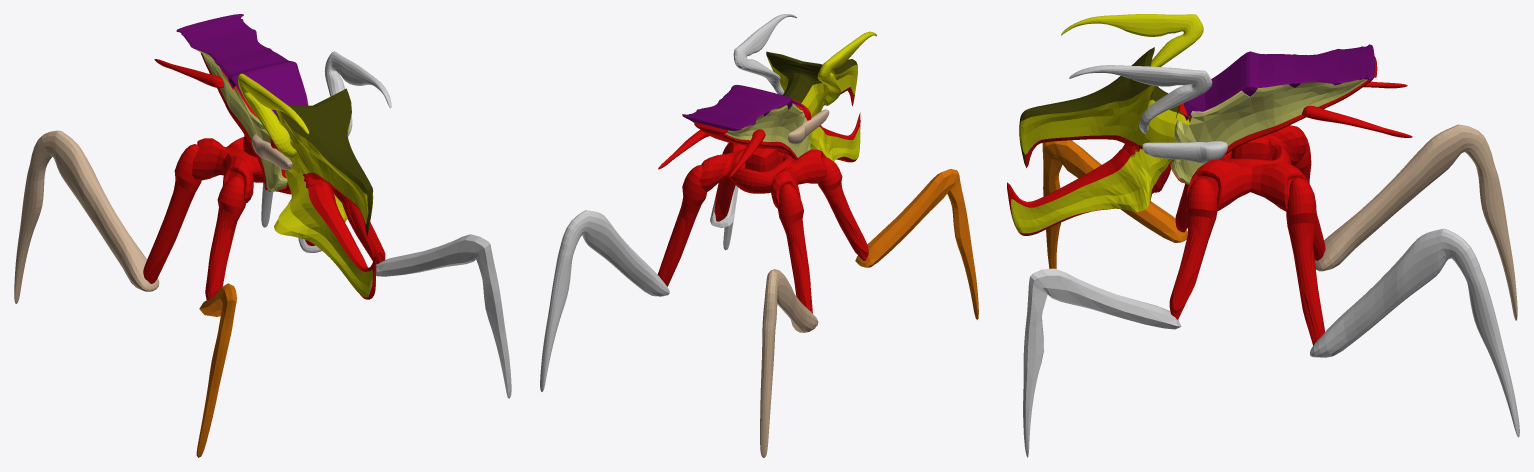
Rendered from aracnido_000024.obj.
3 views of the same model, side by side, from view 1: azimuth 30°, elevation 25°; view 2: azimuth 150°, elevation 25°; view 3: azimuth 270°, elevation 25° (orthographic). The views are drawn at different scales.
Parts seen in each view (by area): view 1: ARAK-BODY-; view 2: ARAK-BODY-; view 3: ARAK-BODY-.
Part boxes in pixels (box(x1,y1,x2,y2)): ARAK-BODY-: box(14, 14, 511, 457); ARAK-BODY-: box(540, 14, 978, 457); ARAK-BODY-: box(1007, 14, 1519, 457).
Size of the model in its own units: 2.64 by 2.68 by 3.59.
